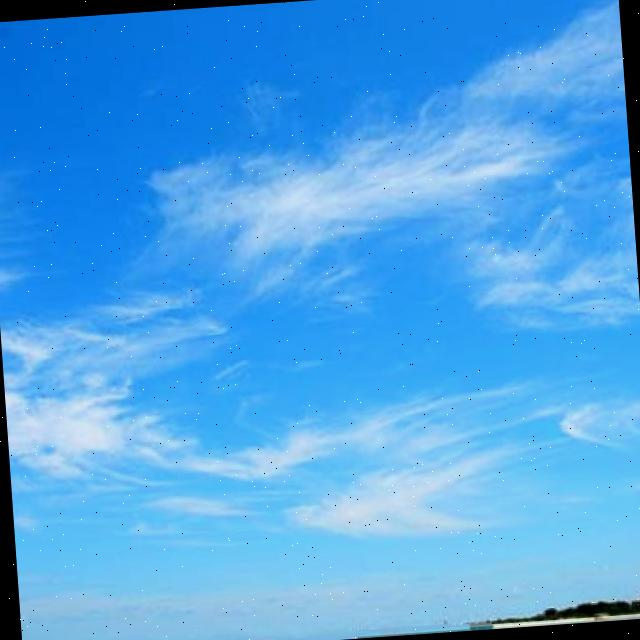Ci: (1, 3, 640, 569)
